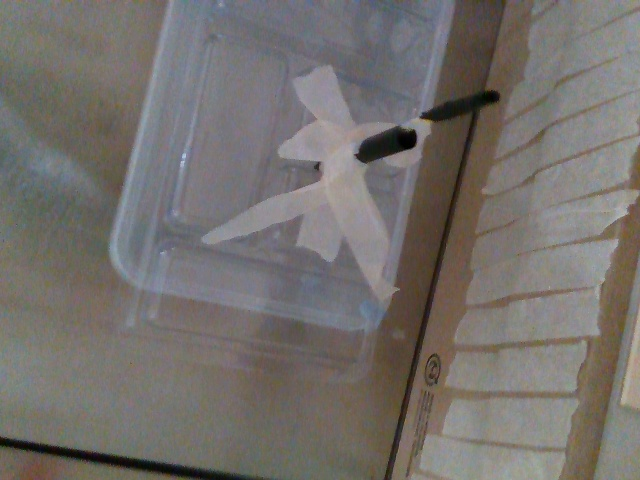test_strip: (398, 87, 501, 132)
